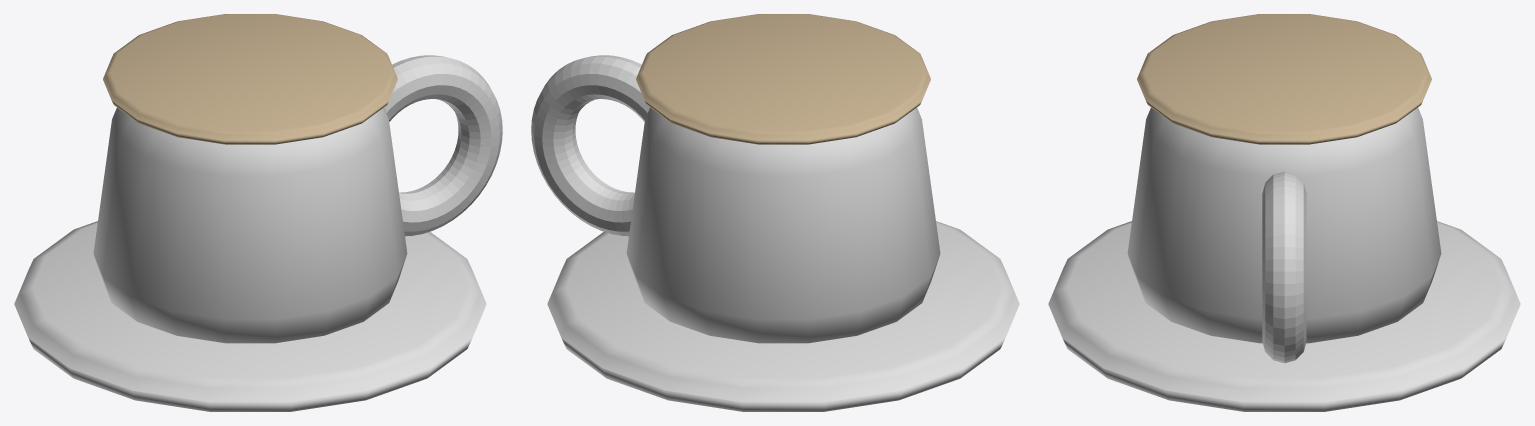
Rendered from food_cup.glb.
3 renders of one model, left to right at view 1: azimuth 30°, elevation 25°; view 2: azimuth 150°, elevation 25°; view 3: azimuth 270°, elevation 25°, orthographic.
Visible parts, largest first — view 1: food_cup; view 2: food_cup; view 3: food_cup.
Boxes of the visible parts, x1=… form: food_cup: x1=14, y1=14, x2=502, y2=411; food_cup: x1=531, y1=14, x2=1019, y2=411; food_cup: x1=1048, y1=14, x2=1520, y2=411.
Size of the model in its own units: 0.3526 by 0.1855 by 0.32.
